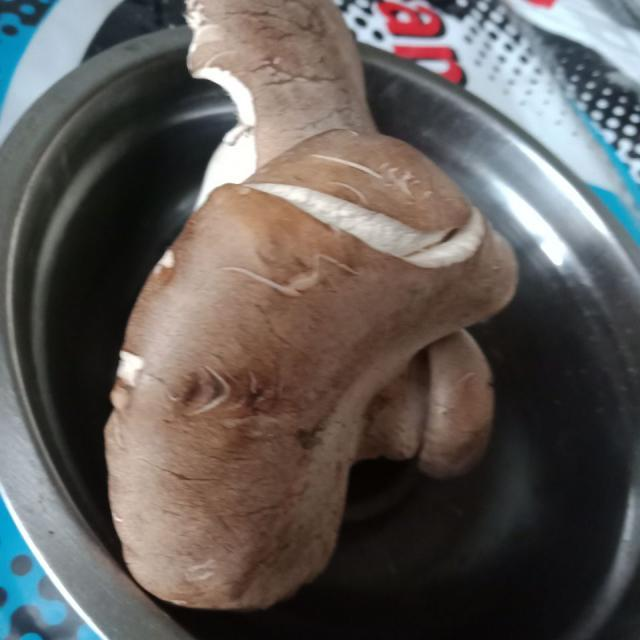Pleurotus cystidiosus: (110, 0, 515, 584)
